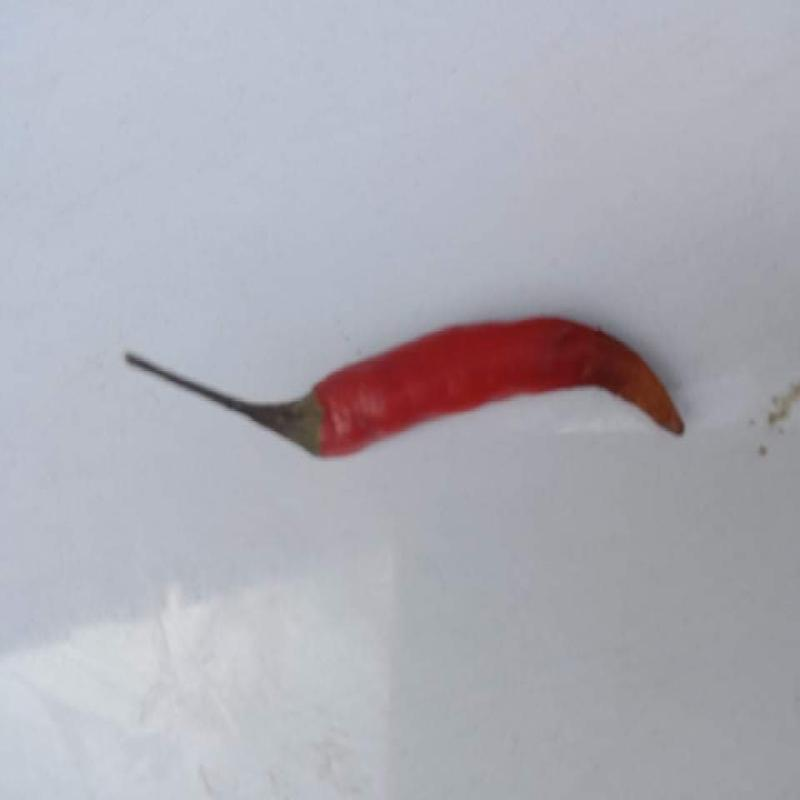vegetable peels: (120, 318, 686, 462)
